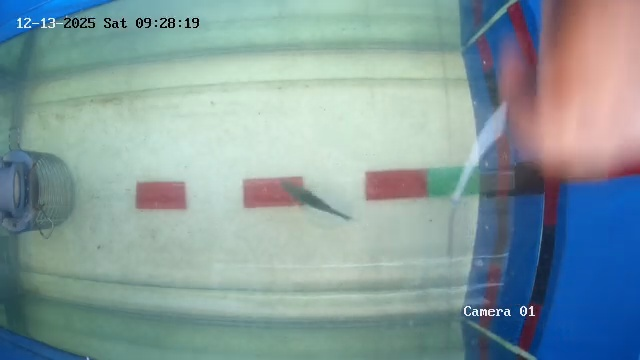fish: (293, 188, 368, 229)
